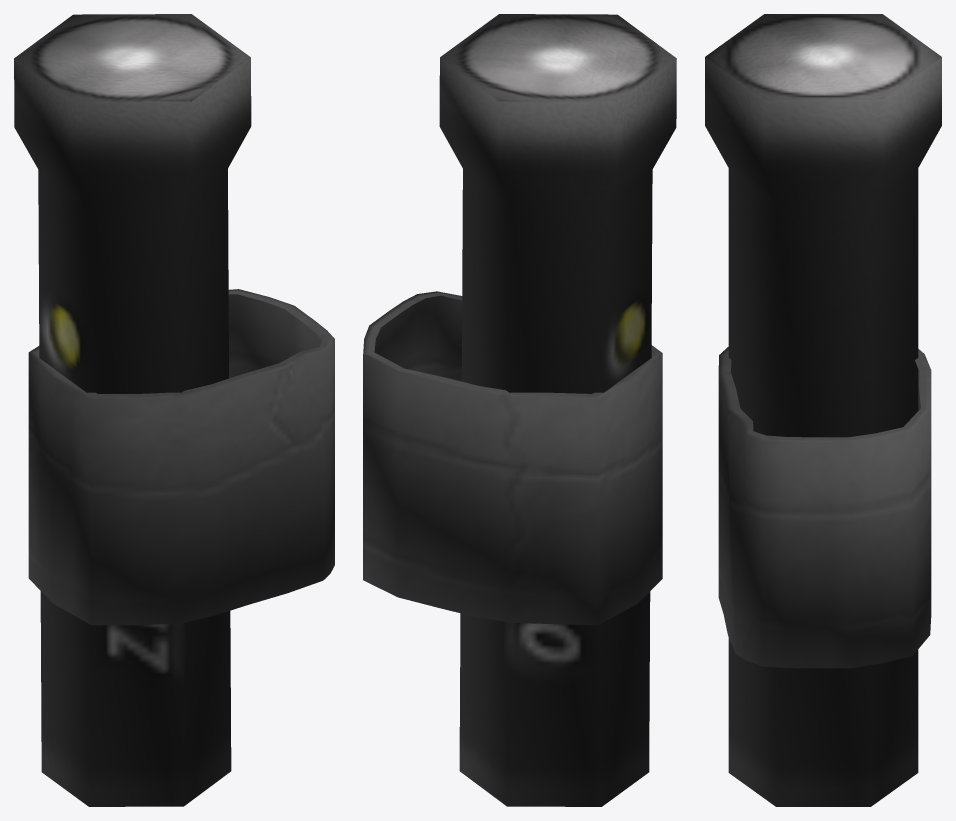
Rendered from TLOG_WeaponFlashlightHuntingRifle.fbx.
3 views of the same model, side by side, from view 1: azimuth 30°, elevation 25°; view 2: azimuth 150°, elevation 25°; view 3: azimuth 270°, elevation 25° (orthographic).
Parts seen in each view (by area): view 1: FlashlightHuntingRifle; view 2: FlashlightHuntingRifle; view 3: FlashlightHuntingRifle.
Boxes of the visible parts, <box> form: FlashlightHuntingRifle: <box>14,14,334,806</box>; FlashlightHuntingRifle: <box>363,14,676,806</box>; FlashlightHuntingRifle: <box>705,14,941,806</box>.
Bounding box in the file's own units: 0.0521 × 0.1384 × 0.0404.
